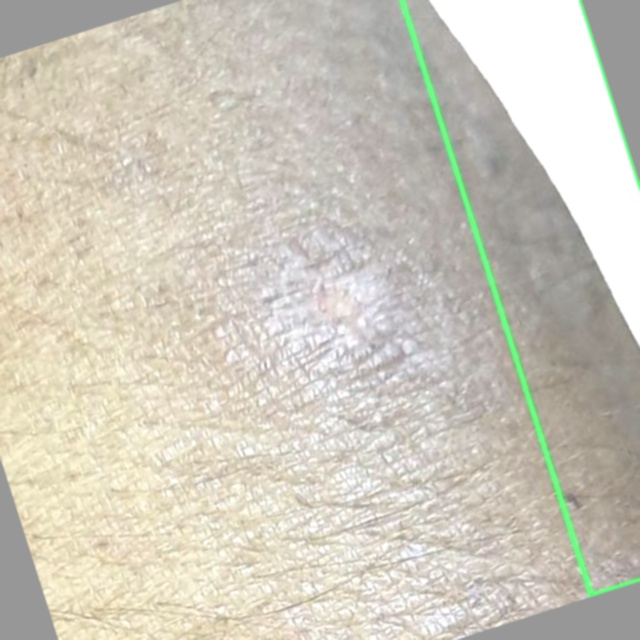Tinea Corporis: (402, 0, 639, 595)
